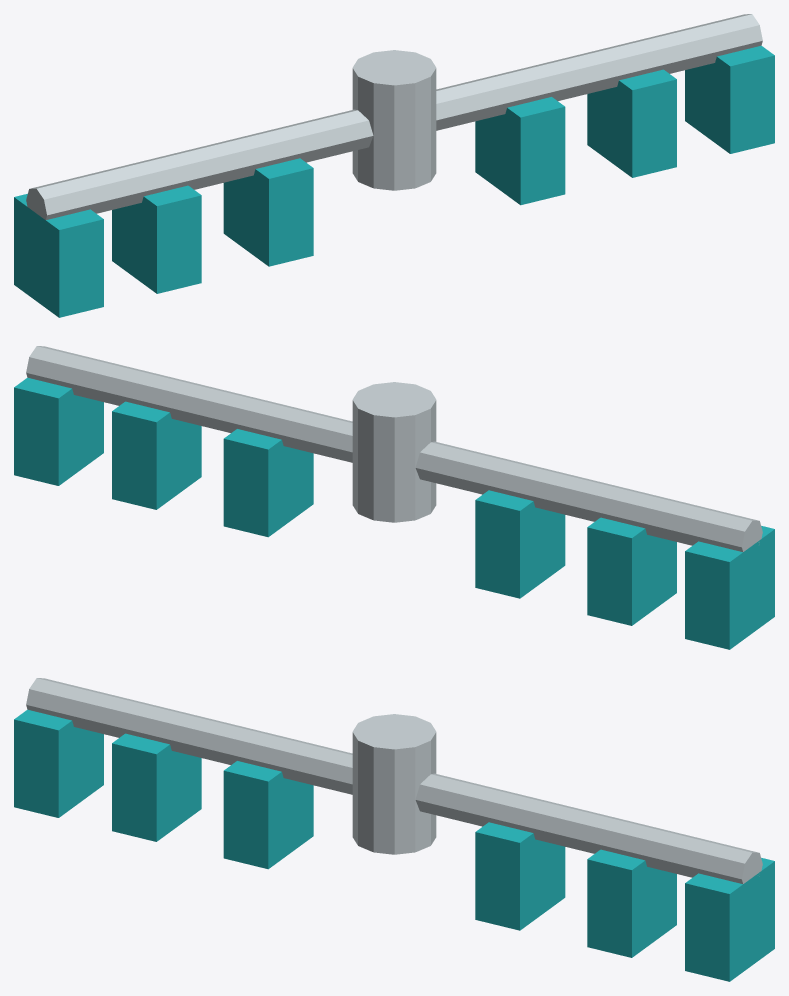
Rendered from AQUA-011.glb.
3 views of the same model, one above another, from view 1: azimuth 30°, elevation 25°; view 2: azimuth 150°, elevation 25°; view 3: azimuth 330°, elevation 25° (orthographic).
Parts seen in each view (by area): view 1: AQUA-011; view 2: AQUA-011; view 3: AQUA-011.
Boxes of the visible parts, x1,y1,x2,y2 form: AQUA-011: (14,14,774,317); AQUA-011: (14,346,774,649); AQUA-011: (14,678,774,981).
Size of the model in its own units: 2.56 by 0.5 by 0.28.
